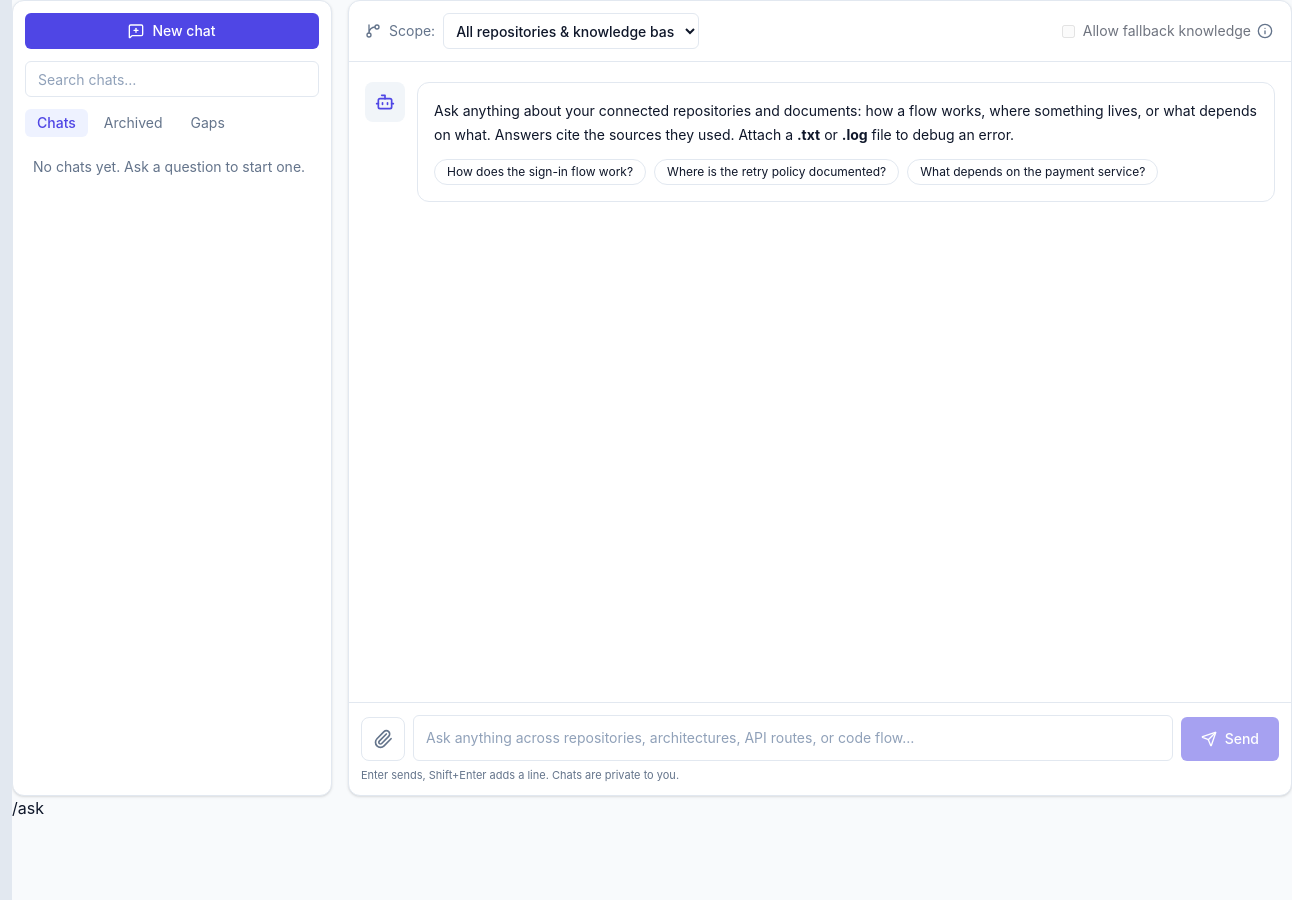
Ask: a new chat › creates the chat on the first question, shows the answer with its sources and moves to the chat's address
The width and height of the screenshot is (1292, 900).
Select "user-service" in the dropdown labelled "Scope". click: {"x": 571, "y": 31}
box: [443,13,699,49]
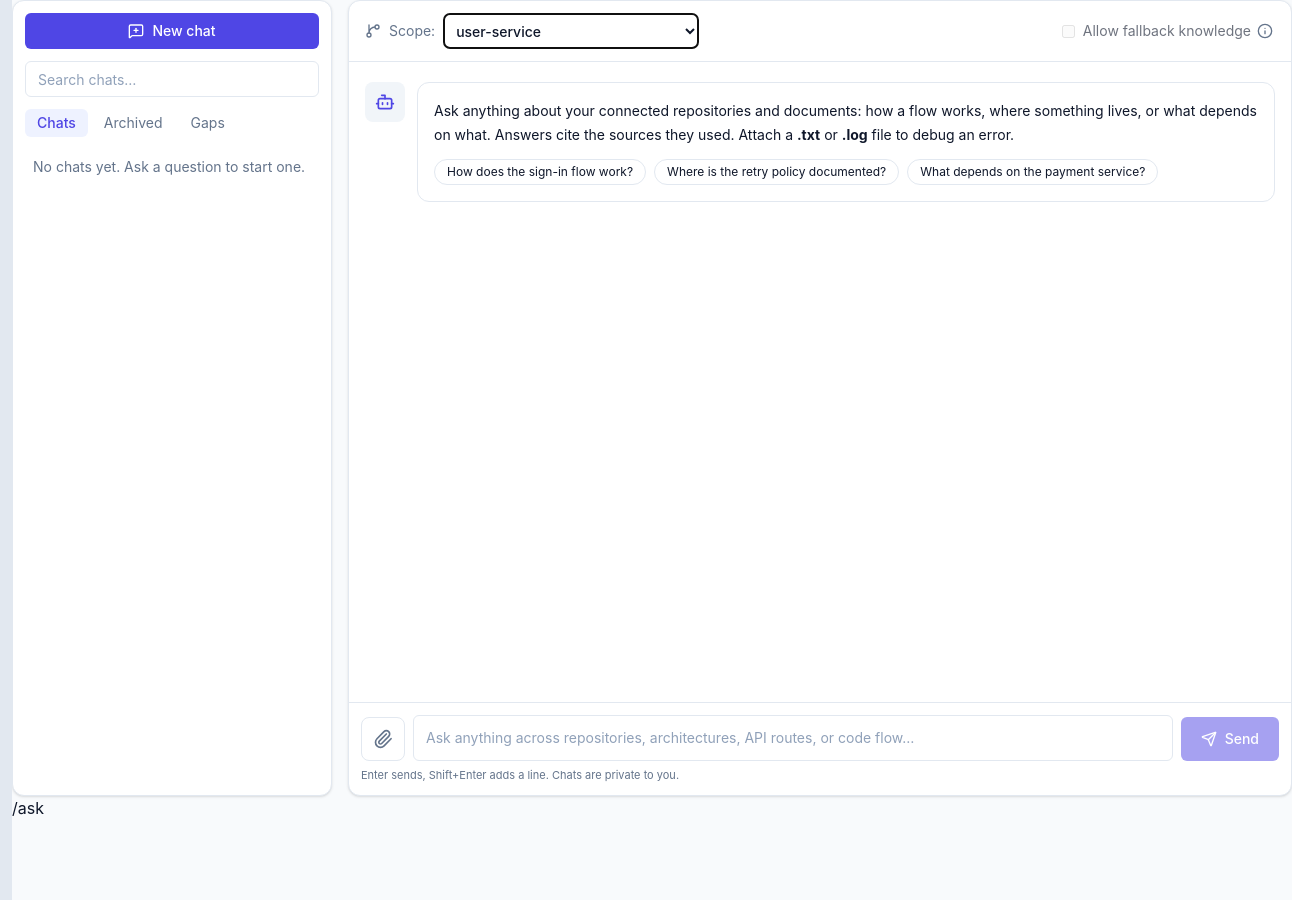
Type "How are deleted users handled?" into the text box named "Message". click: {"x": 793, "y": 738}
box: [413,714,1173,760]
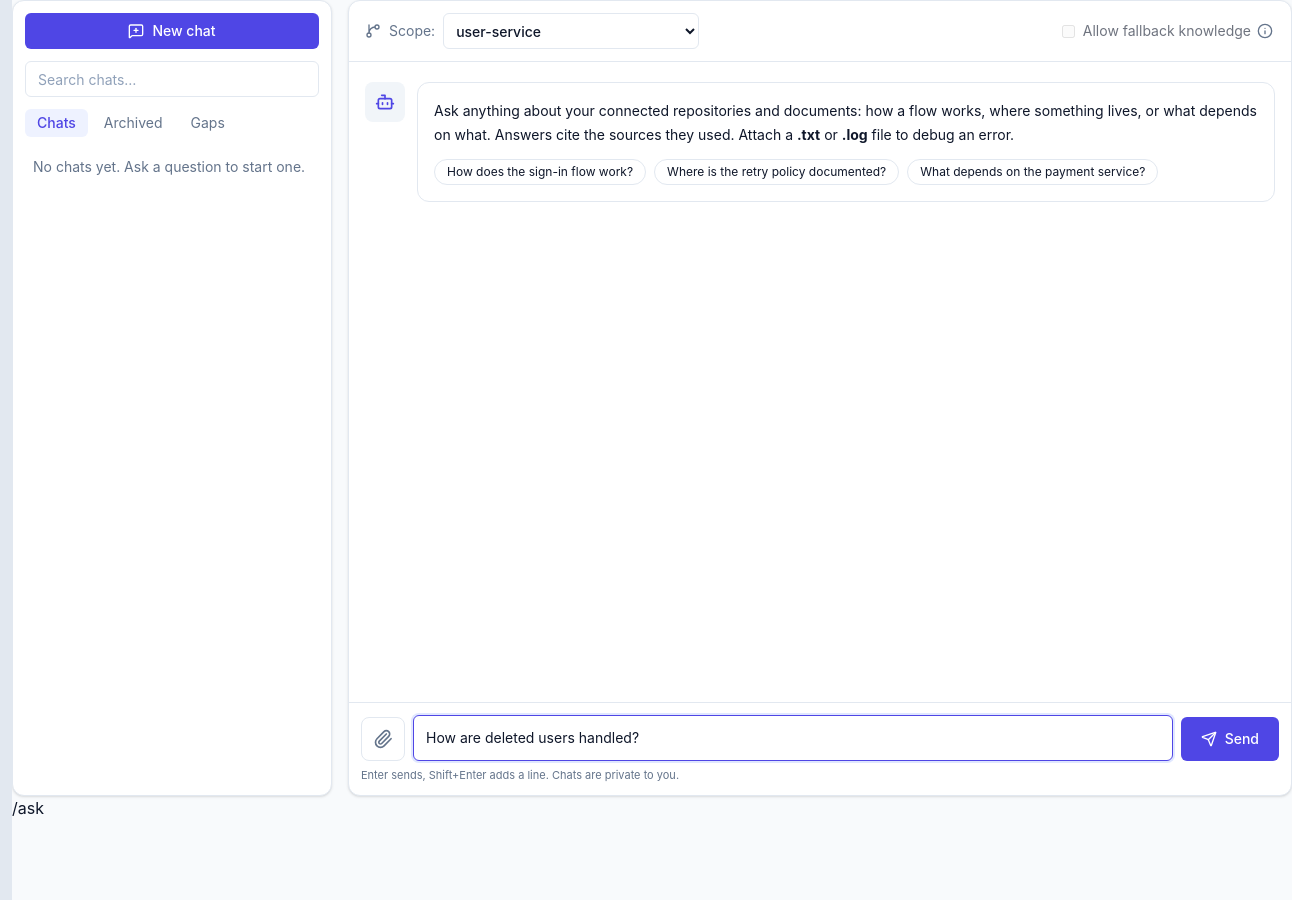
Click the button "Send". click: {"x": 1230, "y": 738}
box: [1181,716,1279,760]
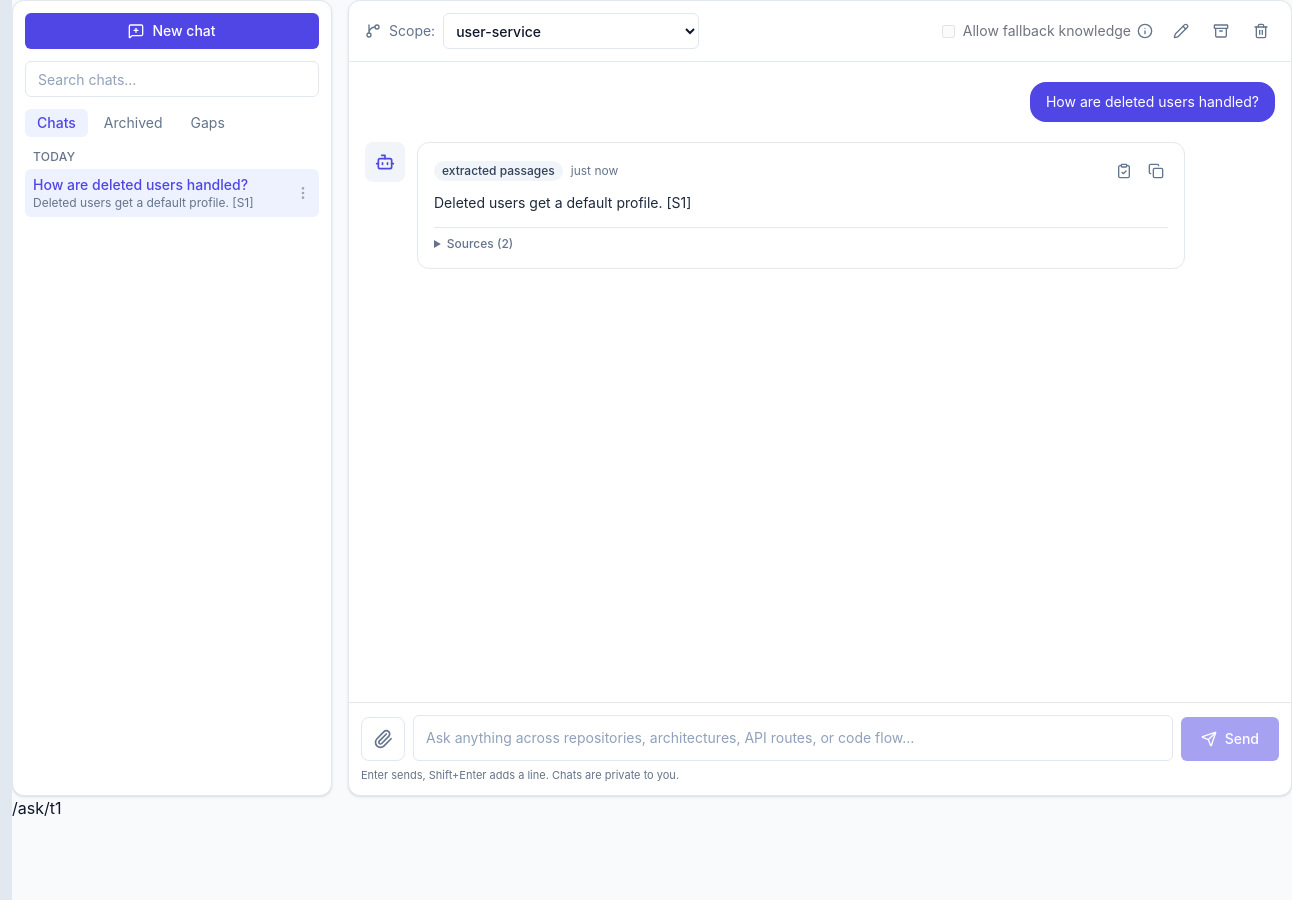
Expected: the text with test id "where" reads "/ask/t1", [12,798,62,818]
Expected: the text "How are deleted users handled?" below "Allow fallback knowledge" is shown, [1046,93,1259,110]
Expected: the text "Deleted users get a default profile. [S1]" below "extracted passages" is shown, [434,194,691,211]
